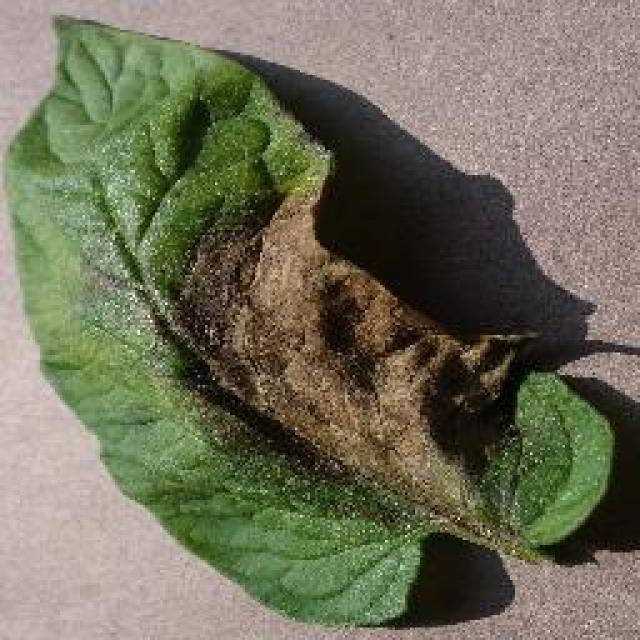Tomato Late Blight: (143, 155, 505, 558)
